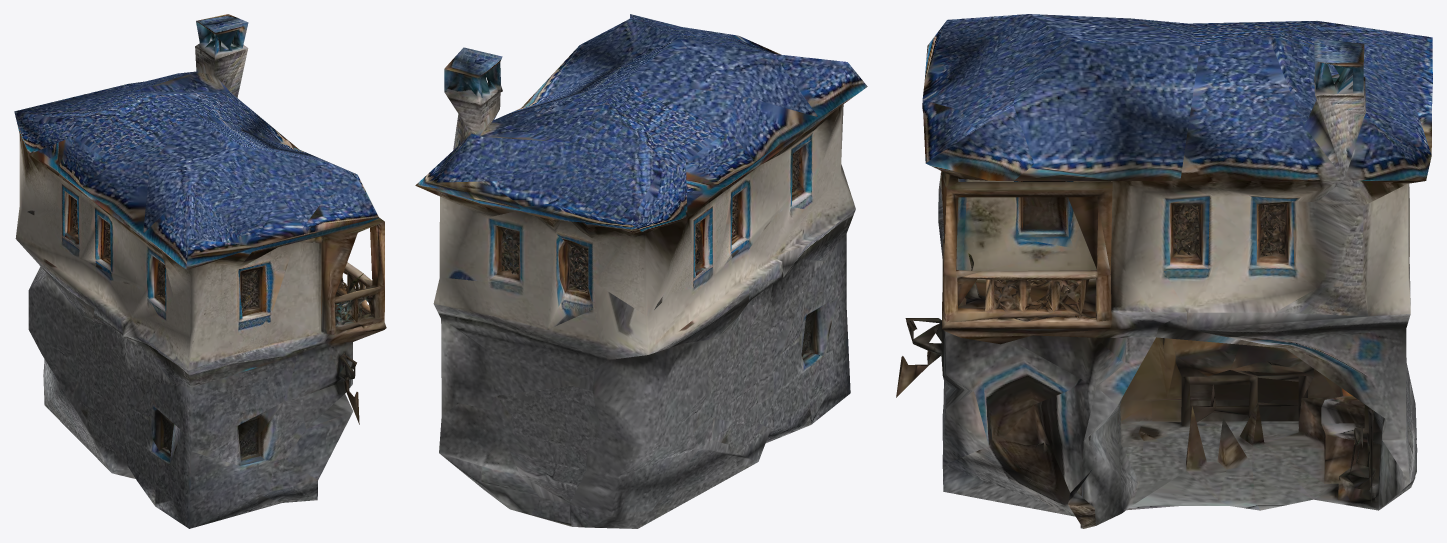
The model's file is house_craftsman_1_alt.glb.
3 renders of one model, left to right at view 1: azimuth 30°, elevation 25°; view 2: azimuth 150°, elevation 25°; view 3: azimuth 270°, elevation 25°, orthographic. The views are drawn at different scales.
Parts seen in each view (by area): view 1: house_craftsman_1_alt; view 2: house_craftsman_1_alt; view 3: house_craftsman_1_alt.
Boxes of the visible parts, x1,y1,x2,y2 form: house_craftsman_1_alt: (14, 14, 386, 528); house_craftsman_1_alt: (415, 14, 867, 528); house_craftsman_1_alt: (896, 14, 1432, 528).
Size of the model in its own units: 0.6159 by 0.956 by 0.9753.
1 material, 1 textured.
